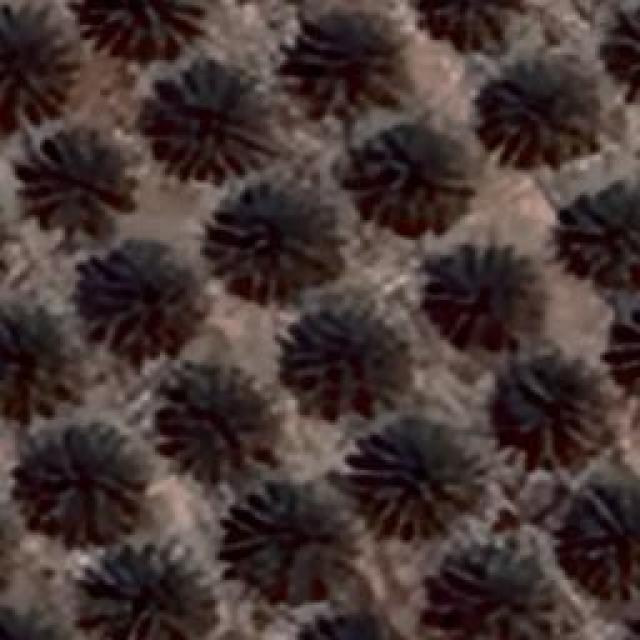PalmTree: (105, 38, 344, 620), (37, 36, 105, 622), (342, 428, 480, 540), (152, 370, 278, 492), (142, 62, 270, 182), (25, 422, 150, 542), (345, 122, 470, 235), (70, 542, 215, 638), (284, 311, 404, 419), (427, 542, 555, 638), (478, 62, 592, 168), (80, 248, 200, 348), (220, 192, 338, 292), (238, 494, 350, 596), (496, 362, 609, 456), (292, 19, 400, 112), (30, 140, 130, 240), (432, 256, 542, 346), (560, 180, 638, 280), (0, 292, 65, 412), (0, 4, 62, 124), (578, 490, 638, 598), (84, 0, 207, 52), (408, 0, 520, 50), (599, 302, 640, 404), (599, 6, 640, 107), (0, 485, 11, 603), (0, 178, 11, 294)
